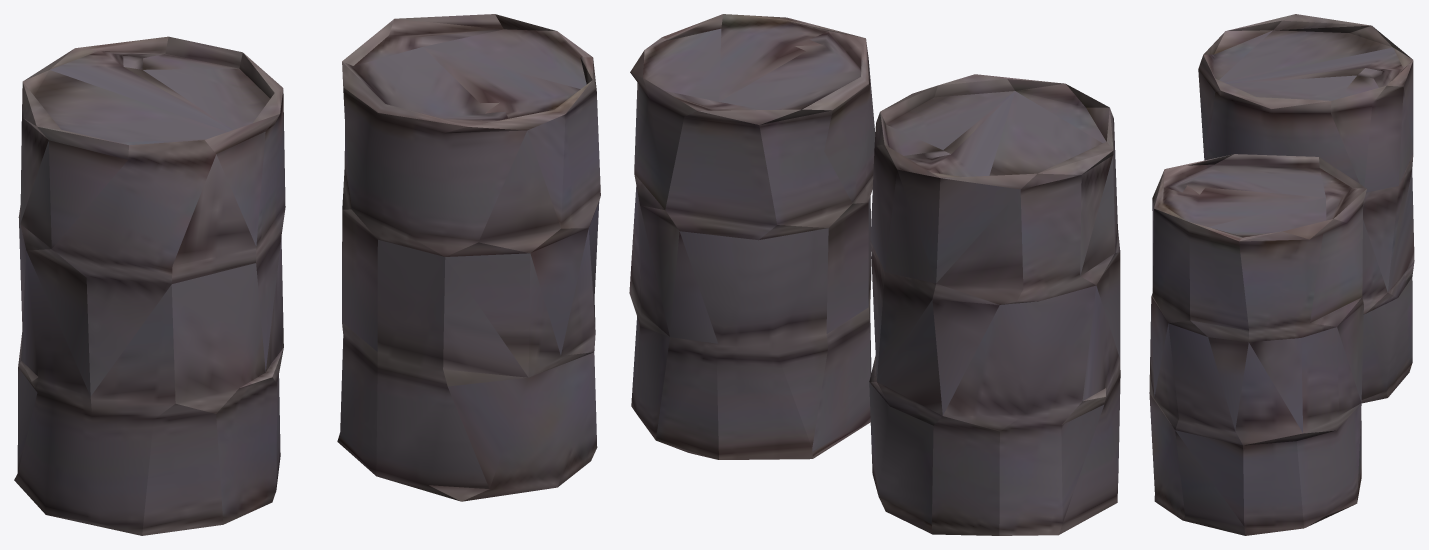
File: bg_wasteland_barrels_1_lod1.glb
3 renders of one model, left to right at view 1: azimuth 30°, elevation 25°; view 2: azimuth 150°, elevation 25°; view 3: azimuth 270°, elevation 25°, orthographic. The views are drawn at different scales.
Parts seen in each view (by area): view 1: body; view 2: body; view 3: body.
Part boxes in pixels (bbox=[...]): body: bbox=[14, 14, 600, 535]; body: bbox=[629, 14, 1120, 535]; body: bbox=[1149, 14, 1414, 535].
Size of the model in its own units: 1.22 by 0.903 by 0.6731.
Materials: 1 (1 with a texture image).
